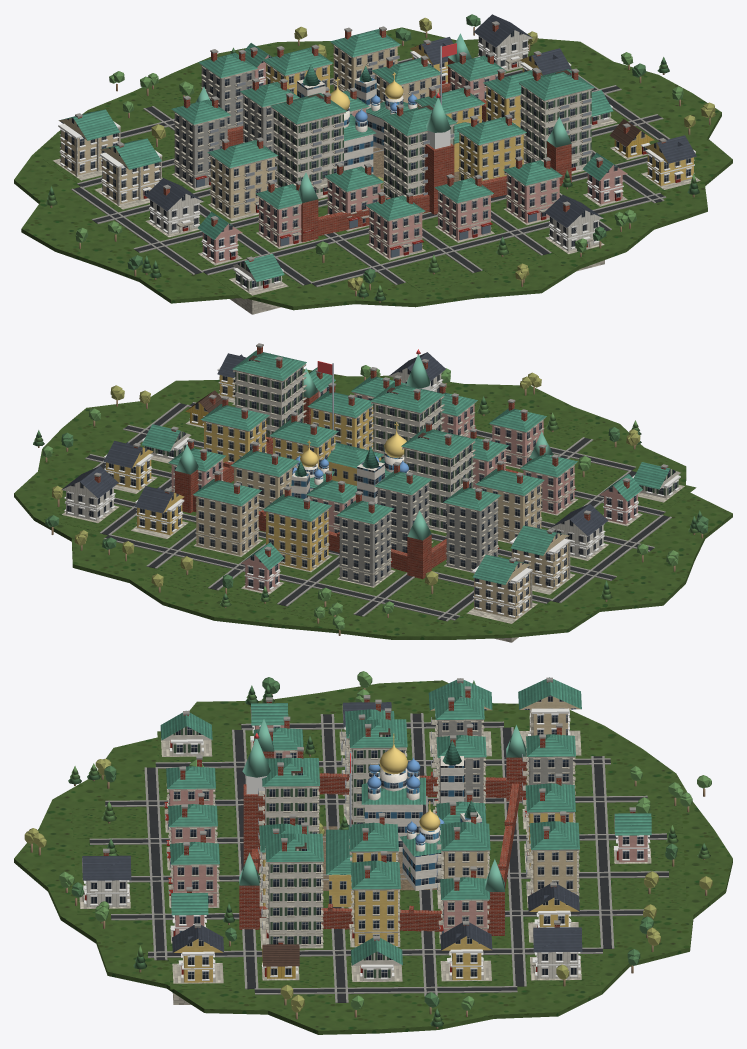
The model's file is city_east_capital.gltf.
3 views of the same model, one above another, from view 1: azimuth 30°, elevation 25°; view 2: azimuth 150°, elevation 25°; view 3: azimuth 270°, elevation 25° (orthographic). The views are drawn at different scales.
Parts seen in each view (by area): view 1: city_east_capital; view 2: city_east_capital; view 3: city_east_capital.
Part boxes in pixels (x1,y1,x2,y2): city_east_capital: [14, 14, 732, 314]; city_east_capital: [14, 343, 732, 642]; city_east_capital: [14, 671, 732, 1034].
Bounding box in the file's own units: 5.75 × 1.19 × 4.98.
29 materials, 18 textured.
